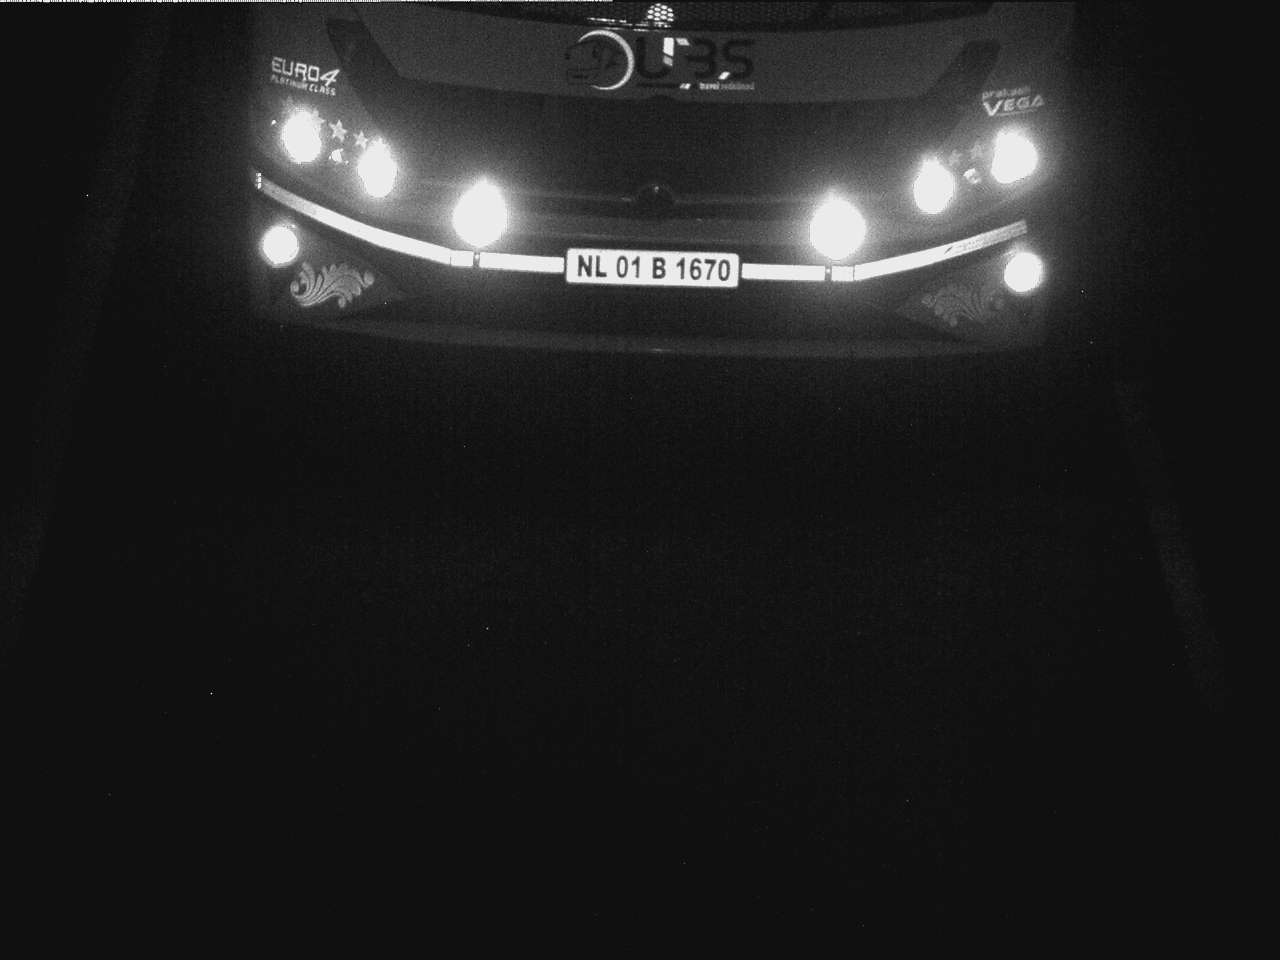bus: (241, 9, 1064, 400)
numberplate: (559, 243, 745, 297)
